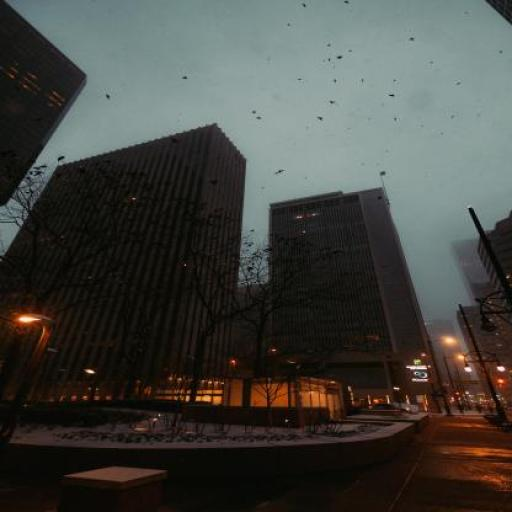street light: (14, 311, 56, 448), (426, 337, 453, 418), (442, 356, 464, 414), (229, 360, 237, 394)
